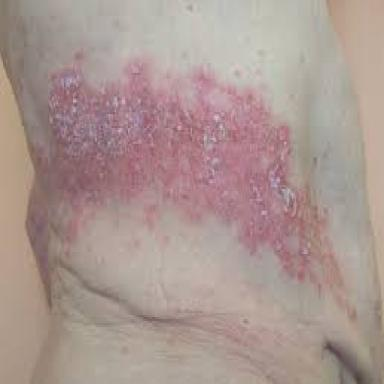Darier_s-Disease: (29, 40, 358, 323)
